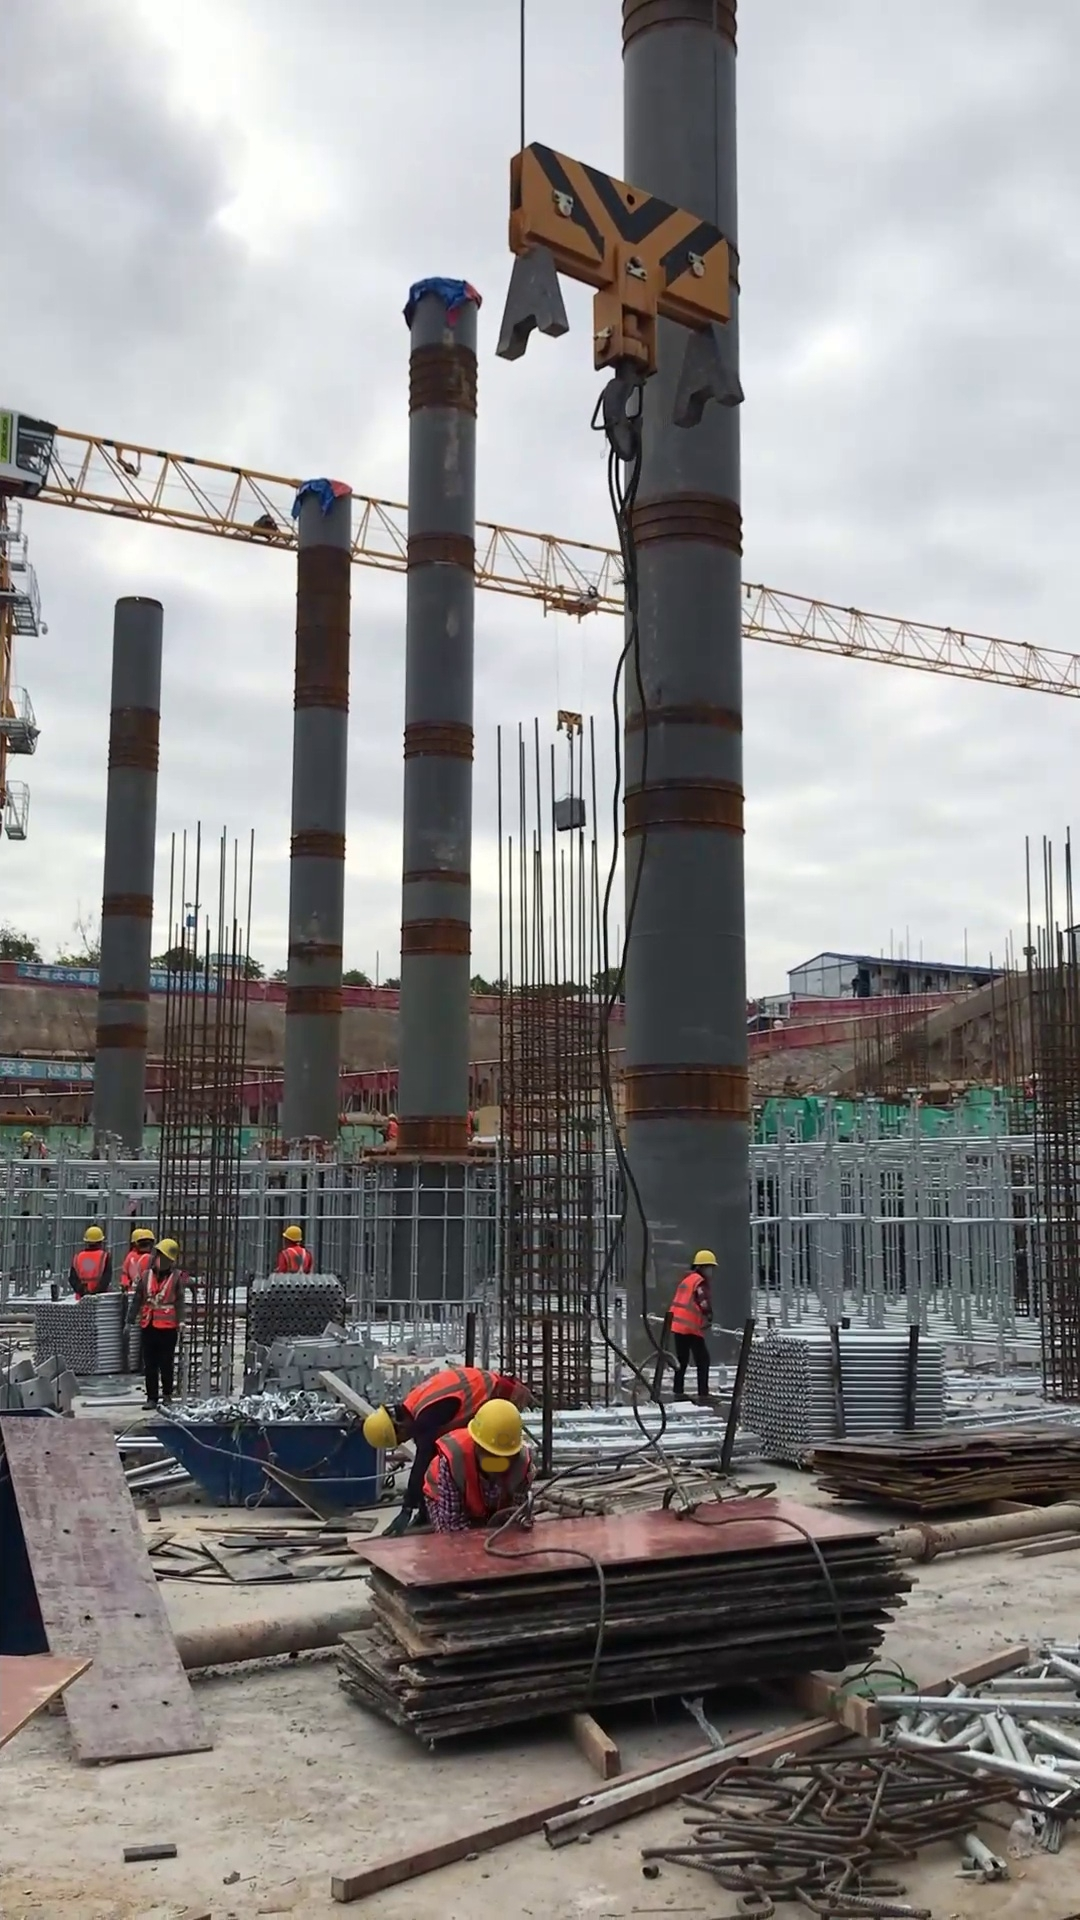board: (334, 1499, 915, 1738), (806, 1423, 1080, 1512)
helmet: (466, 1395, 526, 1458), (362, 1402, 400, 1451), (154, 1238, 181, 1265), (690, 1249, 719, 1267), (82, 1225, 106, 1245), (129, 1227, 154, 1245), (281, 1225, 303, 1243), (1028, 1071, 1040, 1081)
hook: (496, 138, 748, 462), (554, 706, 584, 746)
hopper: (139, 1417, 388, 1505)
person: (362, 1362, 533, 1540), (420, 1395, 538, 1535), (119, 1235, 187, 1411), (668, 1248, 723, 1408), (68, 1225, 113, 1300), (119, 1227, 156, 1293), (274, 1224, 315, 1275), (380, 1112, 397, 1142)
scaffold: (734, 1323, 941, 1465), (526, 1399, 766, 1475), (29, 1294, 146, 1379), (245, 1269, 347, 1345)
slogan: (18, 963, 219, 993), (1, 1060, 96, 1087)
vest: (422, 1429, 530, 1525), (403, 1367, 497, 1428), (669, 1270, 711, 1341), (139, 1267, 179, 1331), (70, 1249, 110, 1301), (119, 1246, 152, 1291), (282, 1245, 311, 1275), (385, 1119, 397, 1145)
